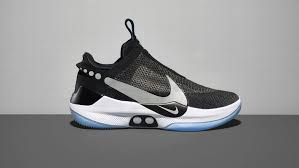nike: (104, 73, 189, 117)
